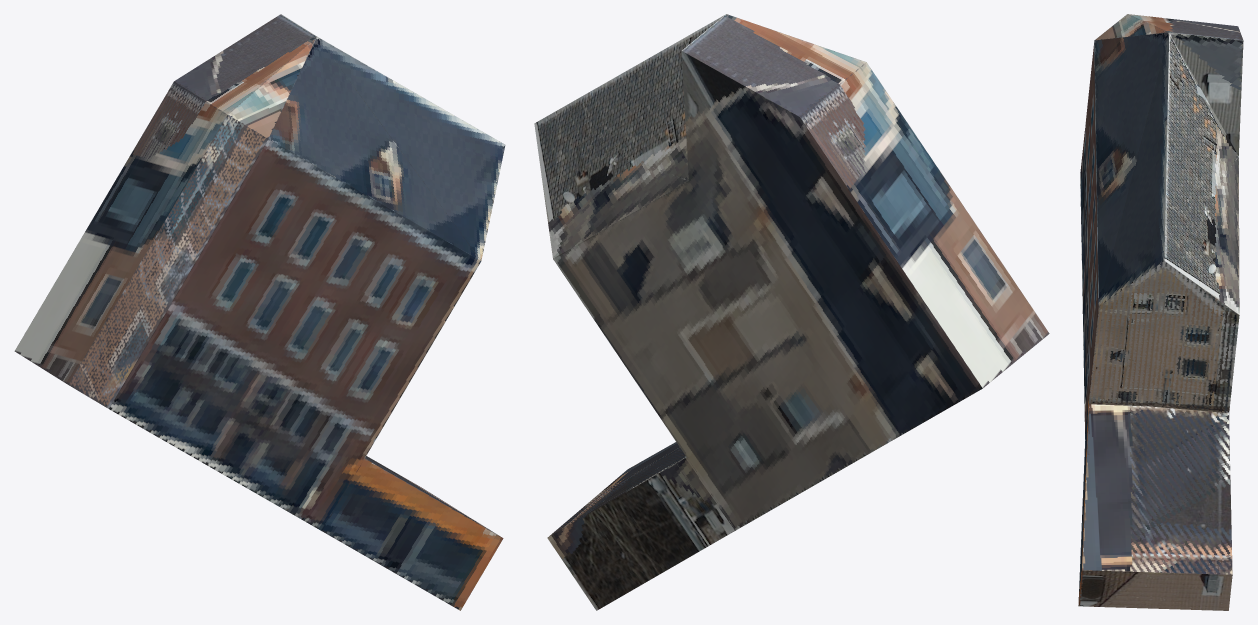
3 renders of one model, left to right at view 1: azimuth 30°, elevation 25°; view 2: azimuth 150°, elevation 25°; view 3: azimuth 270°, elevation 25°, orthographic. The views are drawn at different scales.
Parts seen in each view (by area): view 1: BAG_0599100000671744 (×4); view 2: BAG_0599100000671744 (×3); view 3: BAG_0599100000671744 (×4).
Boxes of the visible parts, x1,y1,x2,y2 form: BAG_0599100000671744 (×4): (14,14,505,610); BAG_0599100000671744 (×3): (534,14,1049,610); BAG_0599100000671744 (×4): (1078,14,1243,610).
Size of the model in its own units: 22.72 by 26.59 by 7.42.
1 material, 1 textured.
